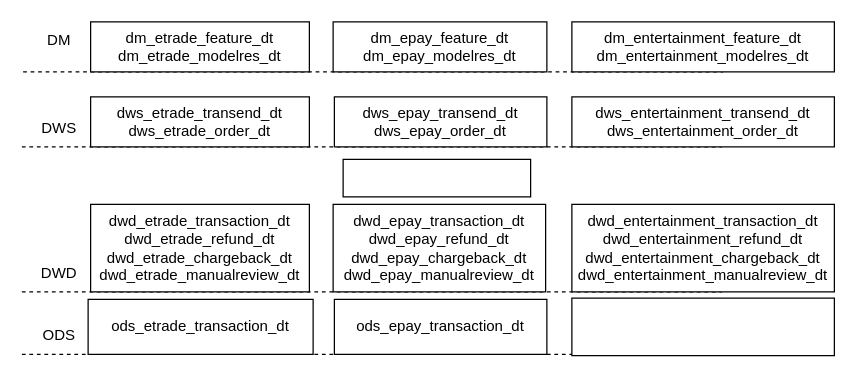
This 856x378 diagram has some shape labels left out. Here are the shapes that lost their labels. From the top down, the centre of each, then its label:
At point 436,177: "dwd_offline_chargeback_dt".
At point 702,326: "ods_entertainment_transaction_dt".
